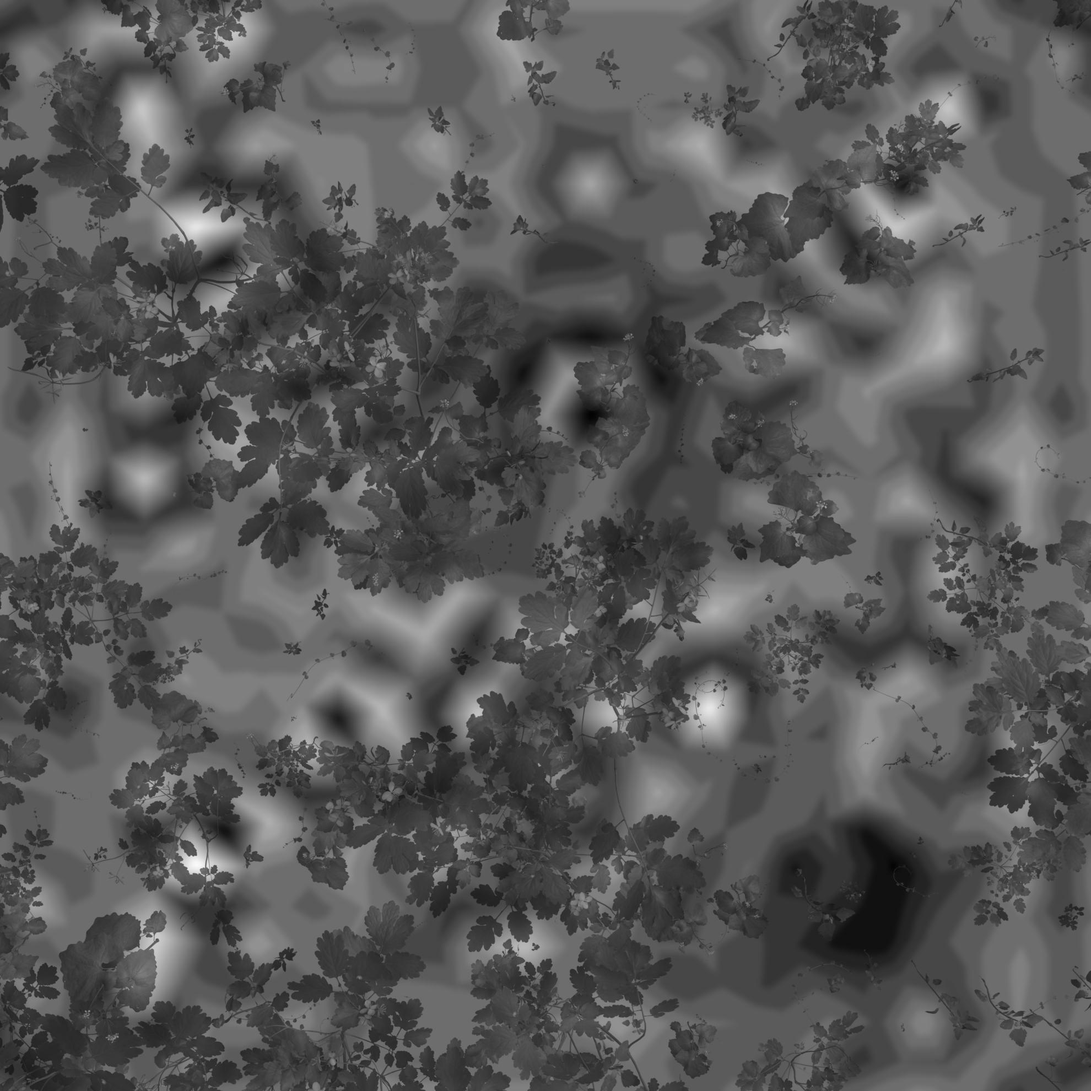landmine: (777, 811, 924, 970), (511, 333, 658, 491)
